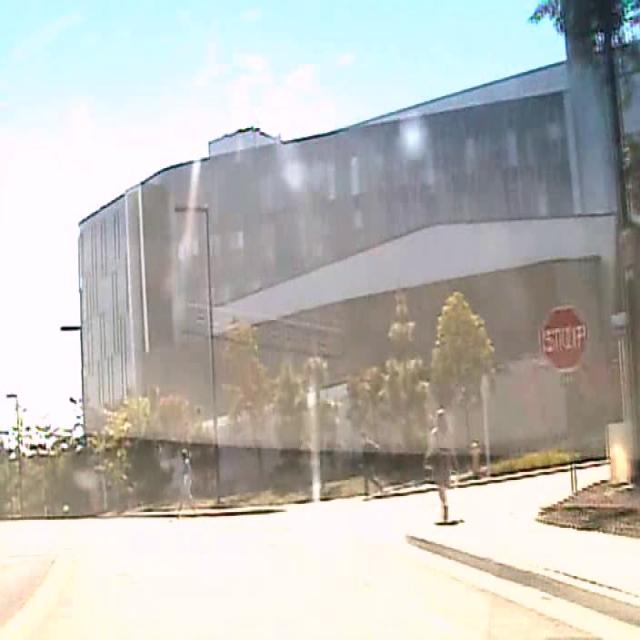stop: (539, 304, 586, 371)
